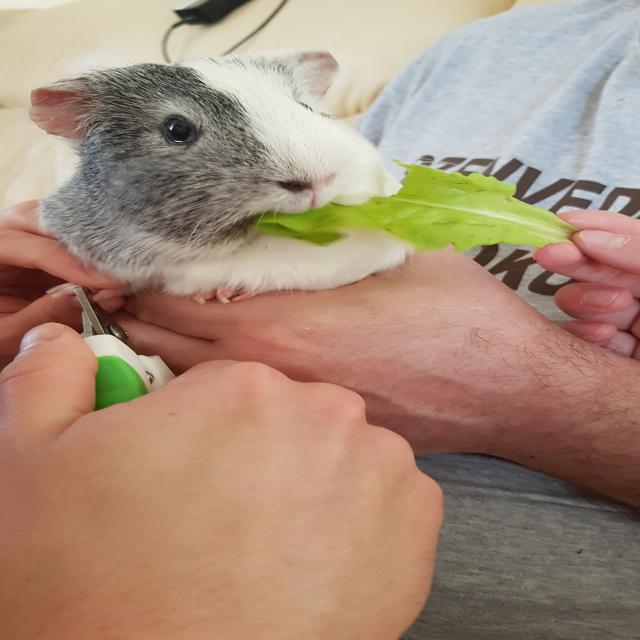guinea pig: (16, 48, 424, 308)
